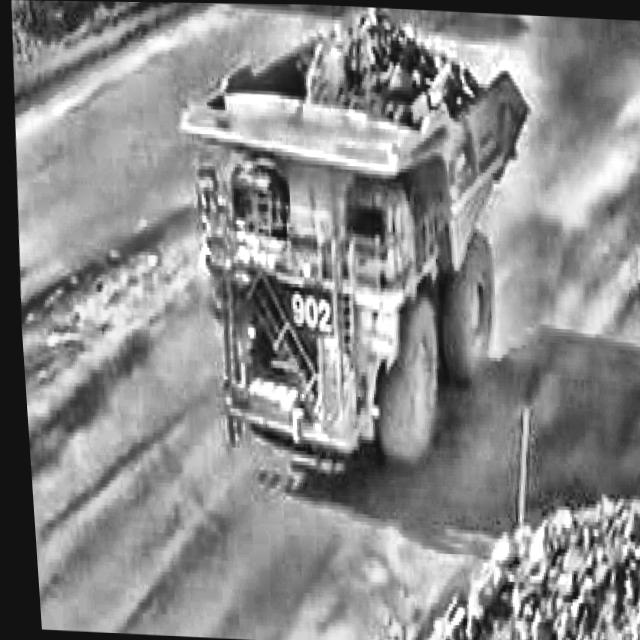dump_truck: (169, 3, 542, 471)
